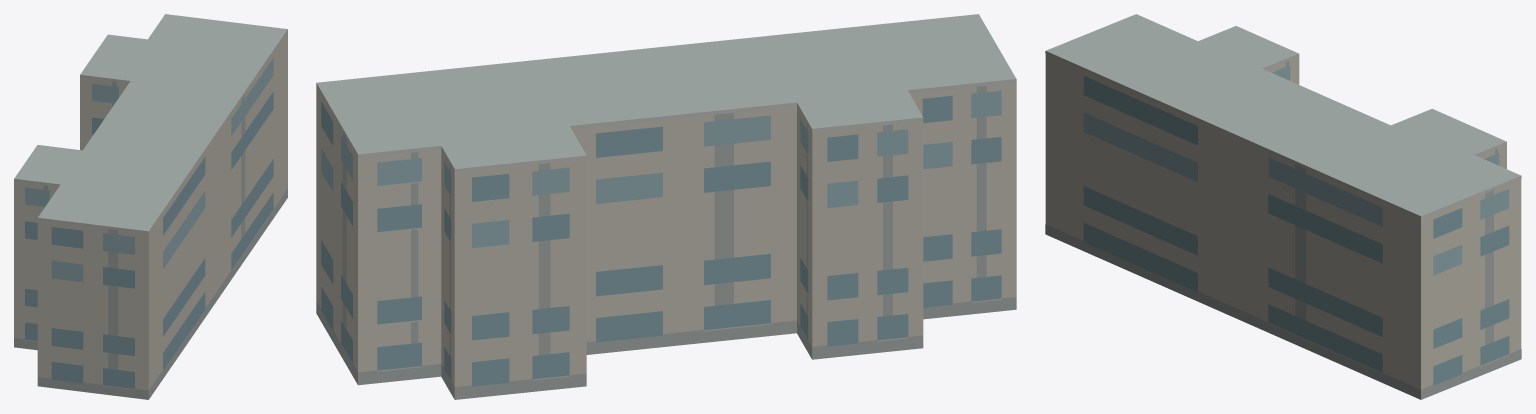
The model's file is residential-640bd4ae-2d91-45f4-8191-2574217aaefe.glb.
3 views of the same model, side by side, from view 1: azimuth 30°, elevation 25°; view 2: azimuth 150°, elevation 25°; view 3: azimuth 270°, elevation 25° (orthographic). The views are drawn at different scales.
Parts seen in each view (by area): view 1: residential-640bd4ae-2d91-45f4-8191-2574217aaefe.tmp; view 2: residential-640bd4ae-2d91-45f4-8191-2574217aaefe.tmp; view 3: residential-640bd4ae-2d91-45f4-8191-2574217aaefe.tmp.
Boxes of the visible parts, x1=… form: residential-640bd4ae-2d91-45f4-8191-2574217aaefe.tmp: x1=14, y1=14, x2=287, y2=399; residential-640bd4ae-2d91-45f4-8191-2574217aaefe.tmp: x1=316, y1=14, x2=1016, y2=399; residential-640bd4ae-2d91-45f4-8191-2574217aaefe.tmp: x1=1045, y1=14, x2=1521, y2=399.
Bounding box in the file's own units: 36.04 × 15.25 × 35.83.
